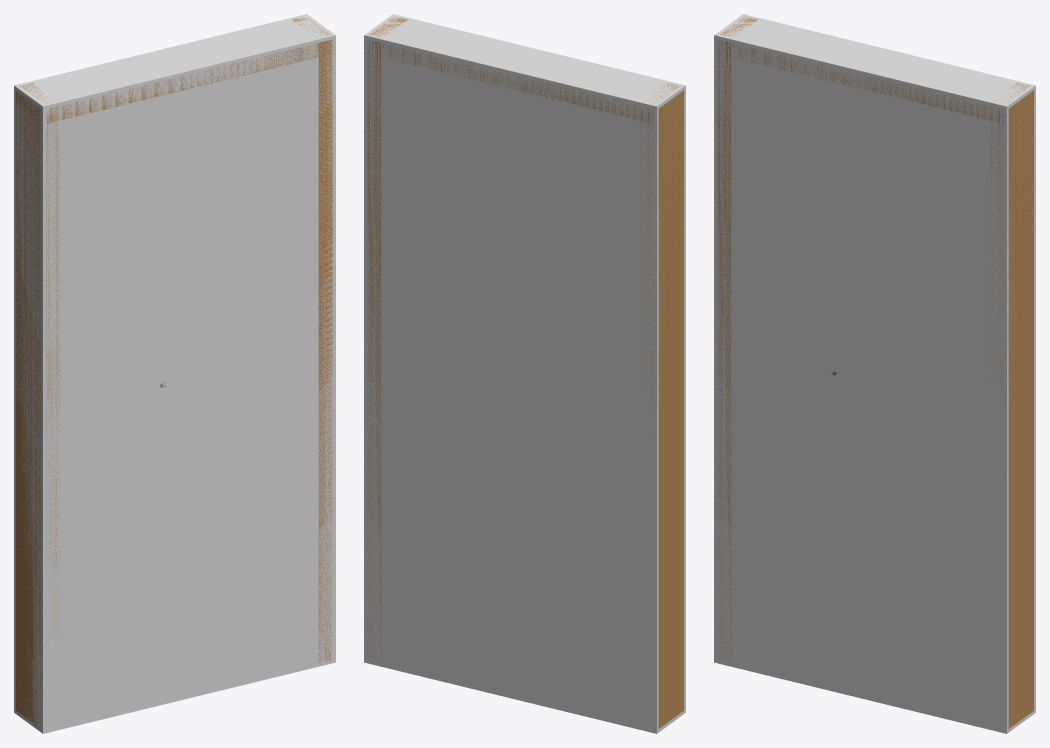
File: exterior-door_retail.glb
3 renders of one model, left to right at view 1: azimuth 30°, elevation 25°; view 2: azimuth 150°, elevation 25°; view 3: azimuth 330°, elevation 25°, orthographic.
Visible parts, largest first — view 1: COL_exterior-door, MESH_FrameSide, MESH_FrameSide.001, MESH_FrameTop; view 2: COL_exterior-door, MESH_FrameSide, MESH_FrameSide.001, MESH_FrameTop; view 3: COL_exterior-door, MESH_FrameSide.001, MESH_FrameSide, MESH_FrameTop.
Part boxes in pixels (box(x1,y1,x2,y2)): COL_exterior-door: box(14, 14, 335, 733); MESH_FrameSide: box(16, 83, 60, 727); MESH_FrameSide.001: box(292, 17, 332, 662); MESH_FrameTop: box(16, 42, 328, 123); COL_exterior-door: box(364, 14, 685, 733); MESH_FrameSide: box(640, 83, 683, 728); MESH_FrameSide.001: box(367, 17, 407, 660); MESH_FrameTop: box(368, 41, 664, 123); COL_exterior-door: box(714, 14, 1035, 733); MESH_FrameSide.001: box(990, 83, 1033, 728); MESH_FrameSide: box(717, 16, 757, 660); MESH_FrameTop: box(718, 41, 1014, 123).
Size of the model in its own units: 1.05 by 2.15 by 0.18.
